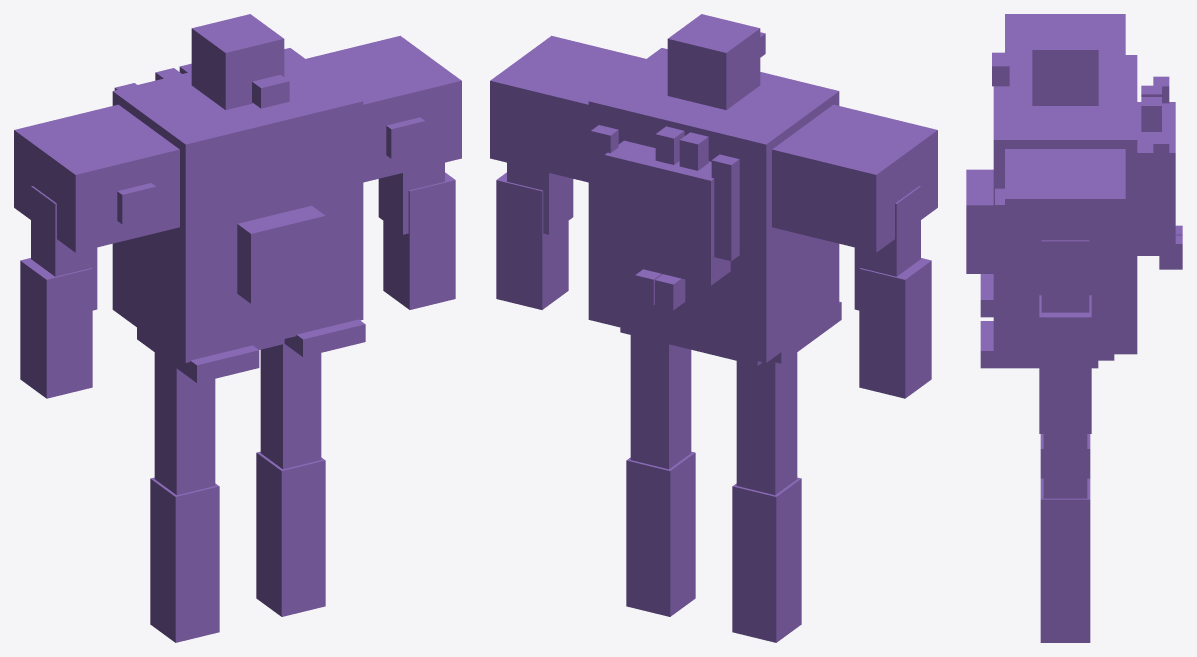
The model's file is mechfall_oni.obj.
3 renders of one model, left to right at view 1: azimuth 30°, elevation 25°; view 2: azimuth 150°, elevation 25°; view 3: azimuth 270°, elevation 25°, orthographic.
Parts seen in each view (by area): view 1: mechfall_oni; view 2: mechfall_oni; view 3: mechfall_oni.
Part boxes in pixels (bbox=[...]): mechfall_oni: bbox=[14, 14, 461, 642]; mechfall_oni: bbox=[490, 14, 937, 642]; mechfall_oni: bbox=[966, 14, 1182, 642].
Size of the model in its own units: 5.78 by 7.86 by 2.7.
